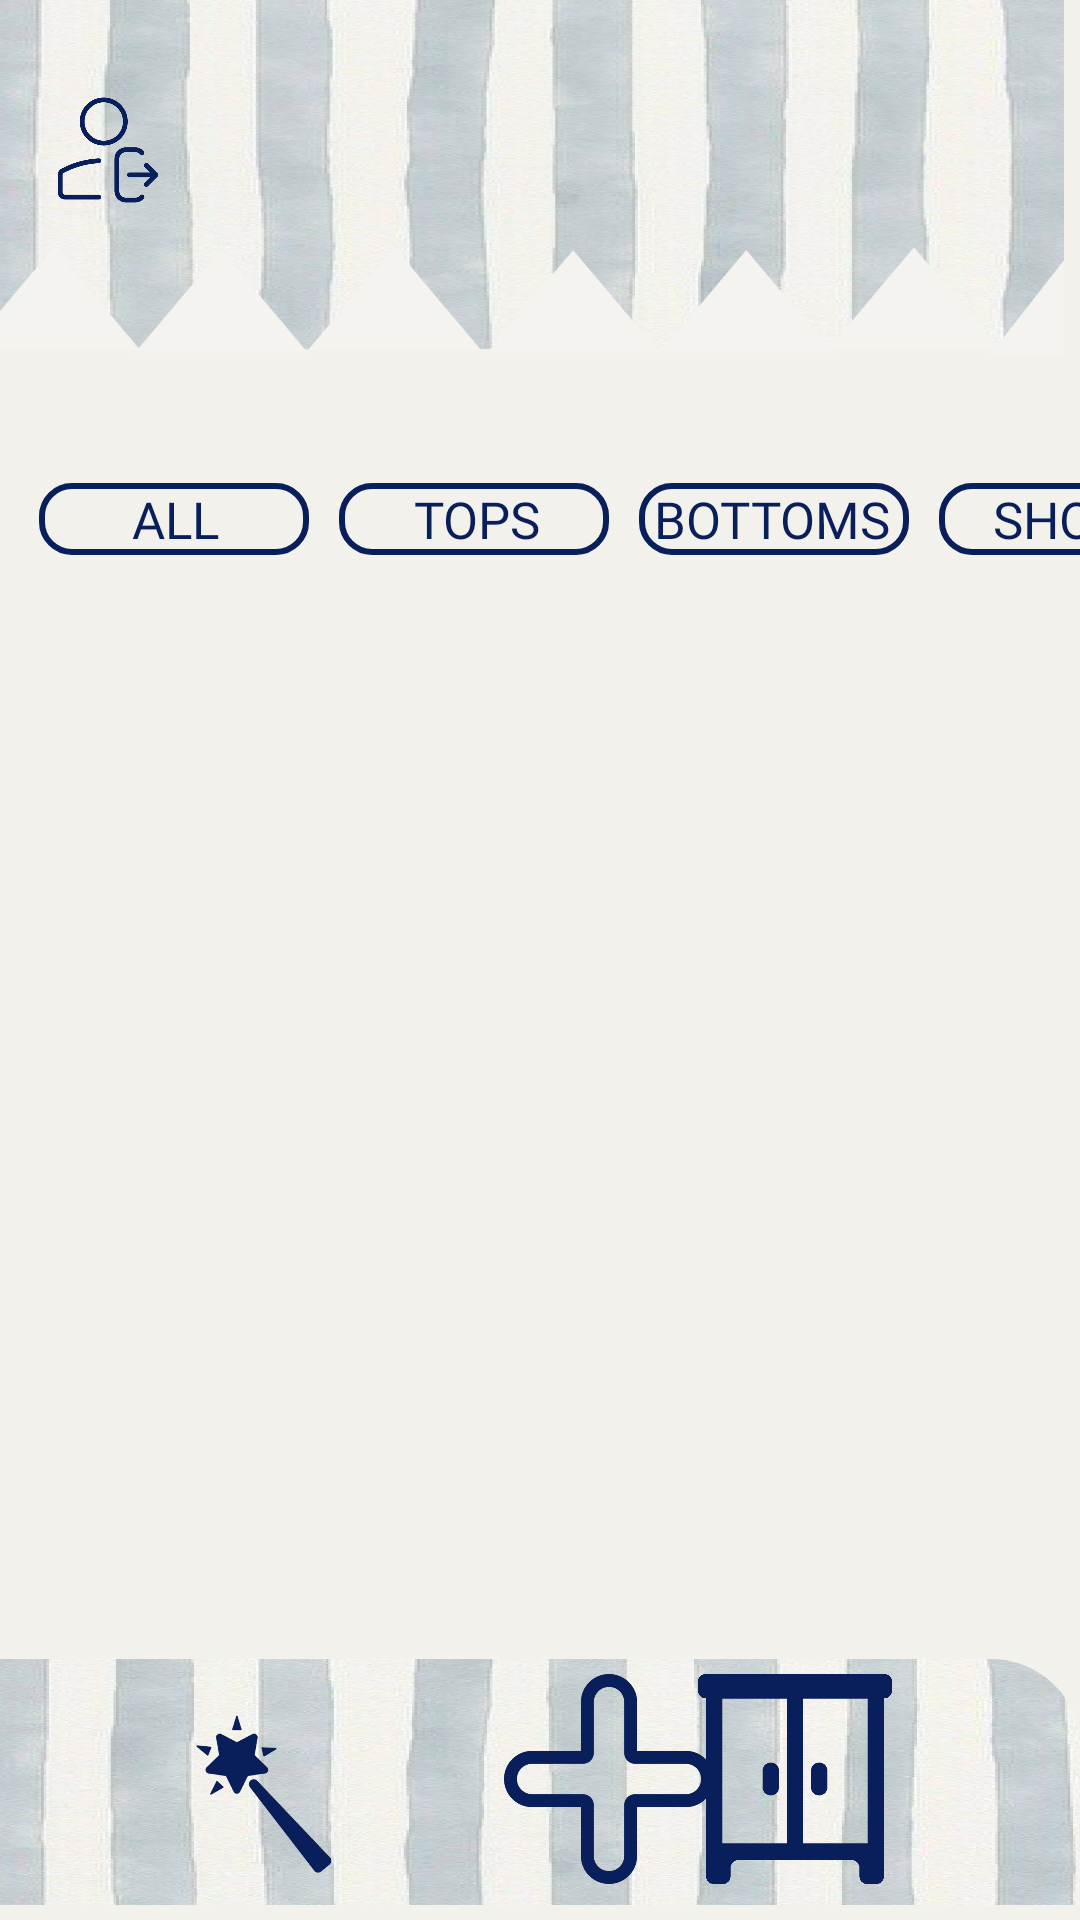

Icons on this 1080 × 1920 Android screen, each with the point to tap as (x,y):
plus: (609,1779)
wardrobe: (795,1779)
